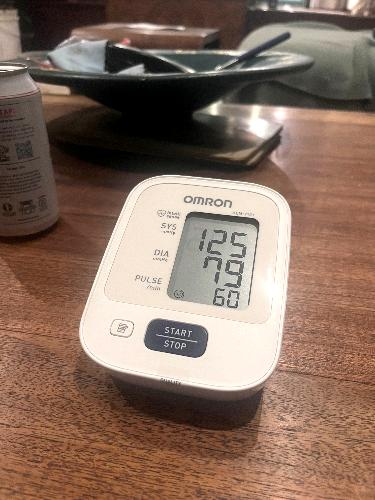bpm: (164, 206, 263, 311)
